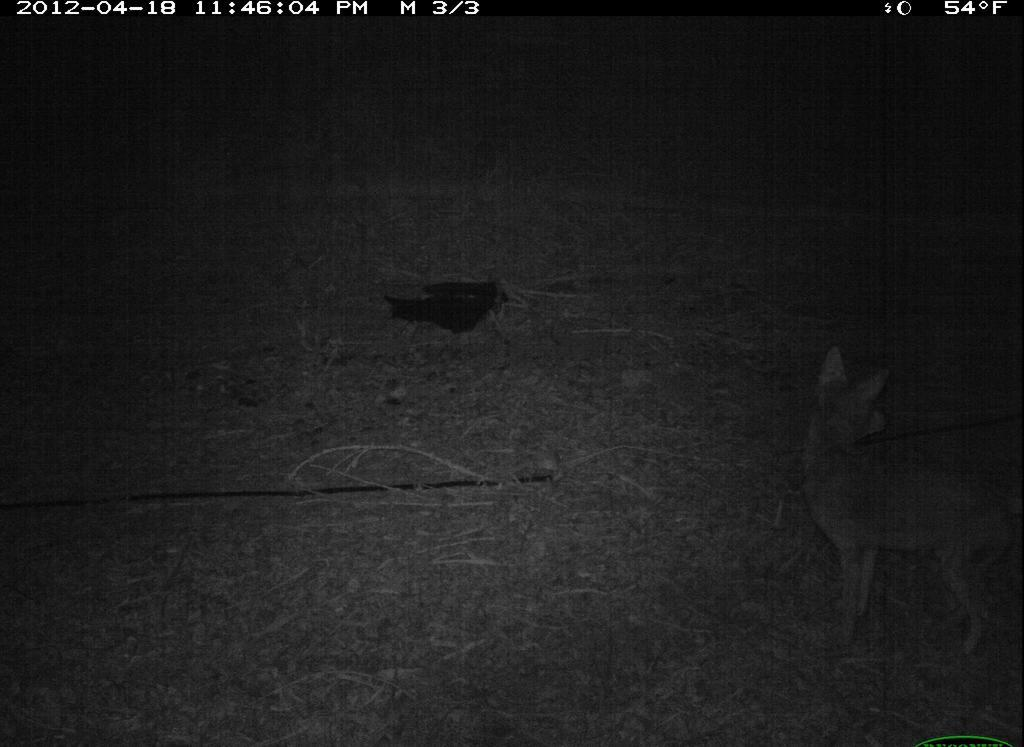coyote: (793, 342, 1022, 661)
